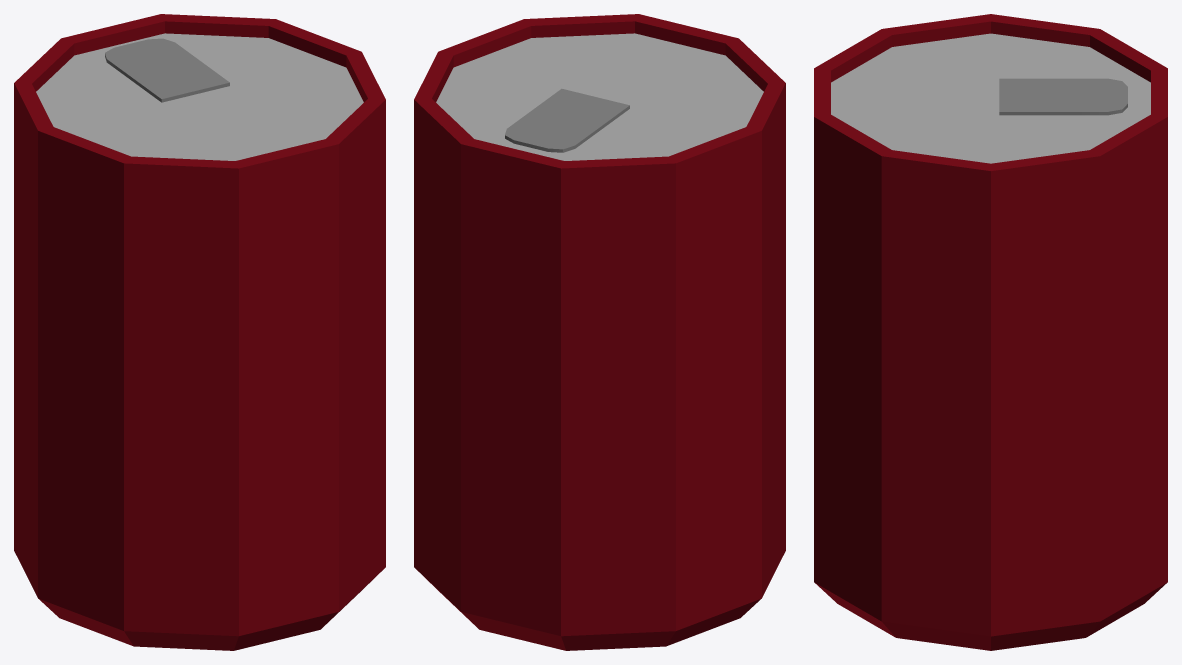
The model's file is Can.fbx.
3 views of the same model, side by side, from view 1: azimuth 30°, elevation 25°; view 2: azimuth 150°, elevation 25°; view 3: azimuth 270°, elevation 25° (orthographic).
Visible parts, largest first — view 1: pCube3; view 2: pCube3; view 3: pCube3.
Part boxes in pixels (box(x1,y1,x2,y2)): pCube3: box(14, 14, 385, 650); pCube3: box(414, 14, 785, 650); pCube3: box(814, 14, 1167, 650).
Bounding box in the file's own units: 2 × 2.91 × 1.9.
